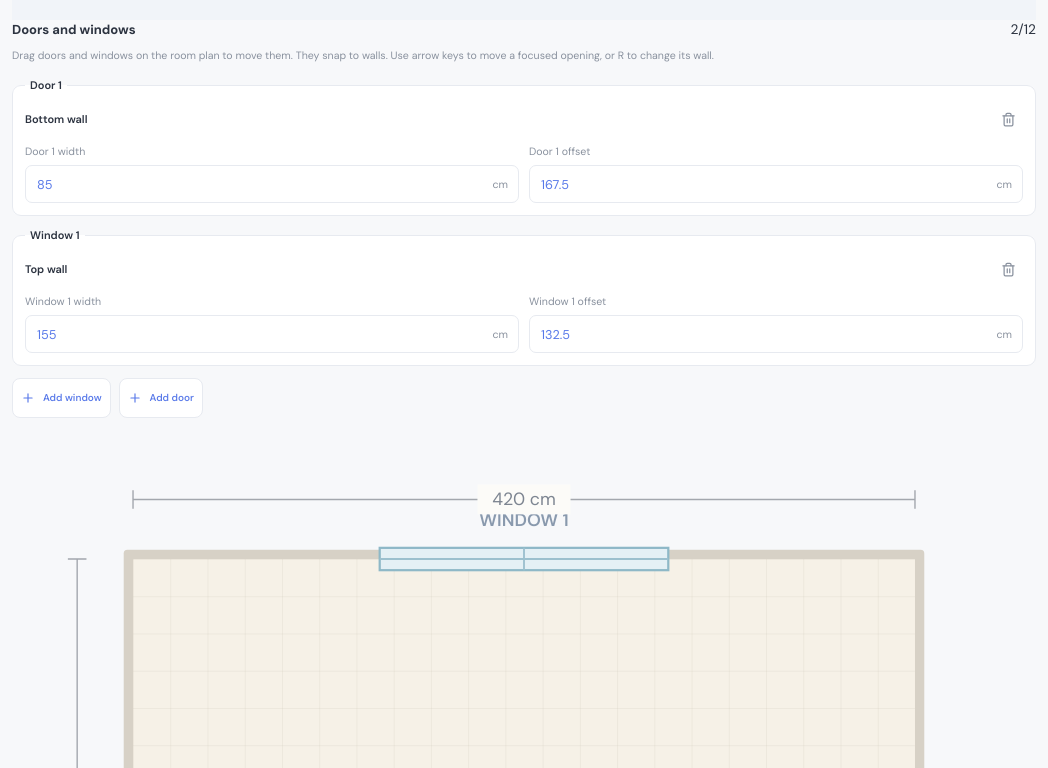
Test: room openings › rejects overlapping openings while preserving the previous valid geometry
Step 1. Click the button "Add window" → (61, 398), box 12,378 -> 111,418
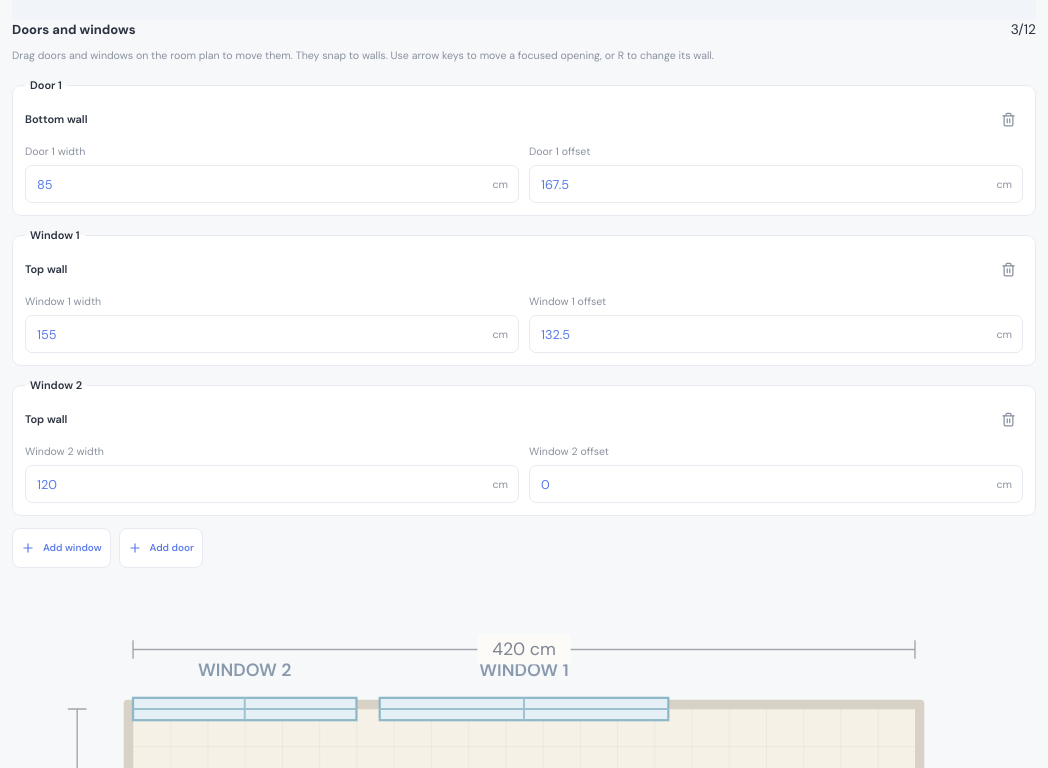
Step 2. Replace the text in the field labelled "Window 2 offset" with "140" → (761, 484), box 530,466 -> 992,502
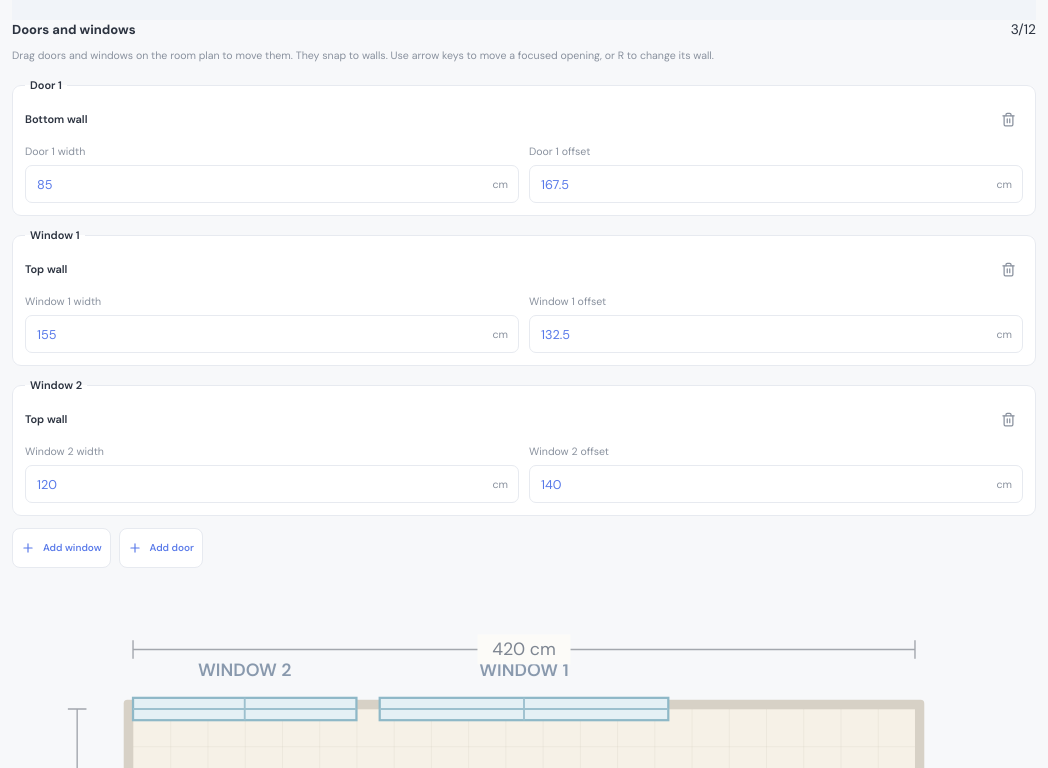
Step 3. Leave the field labelled "Window 2 offset", box 530,466 -> 992,502
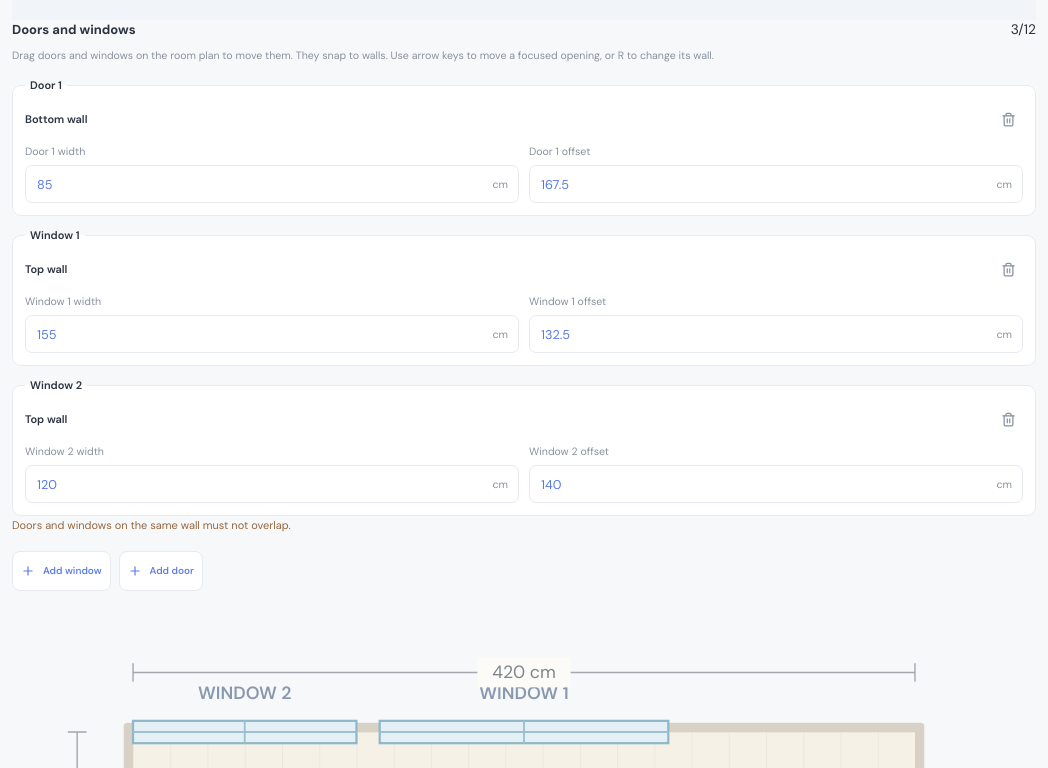
Now the message shows "must not overlap", box 12,518 -> 291,532
